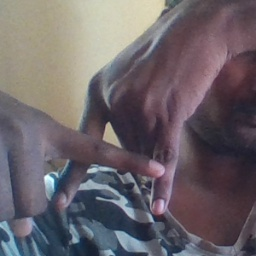H: (42, 83, 185, 214)
